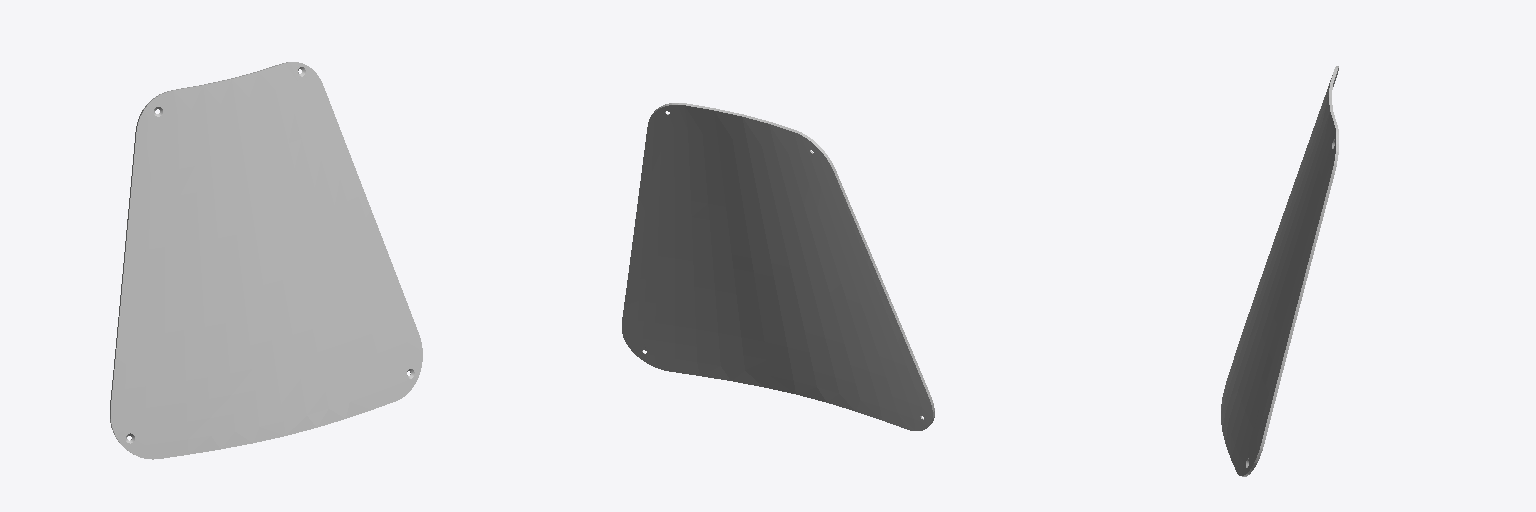
File: Roll_hoop_cover.obj
3 views of the same model, side by side, from view 1: azimuth 30°, elevation 25°; view 2: azimuth 150°, elevation 25°; view 3: azimuth 270°, elevation 25° (orthographic).
Parts seen in each view (by area): view 1: roll hoop rear cover; view 2: roll hoop rear cover; view 3: roll hoop rear cover.
Boxes of the visible parts, x1,y1,x2,y2 form: roll hoop rear cover: [110, 62, 422, 459]; roll hoop rear cover: [622, 103, 934, 430]; roll hoop rear cover: [1221, 66, 1338, 476].
Size of the model in its own units: 33.22 by 32.47 by 10.99.